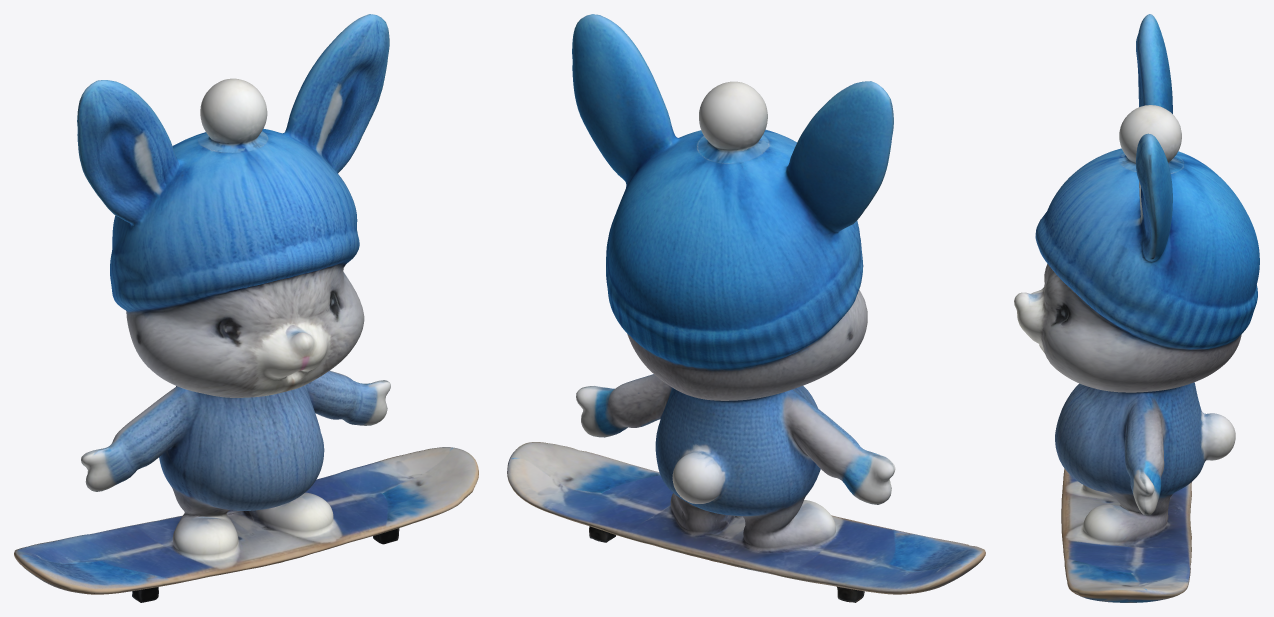
Rendered from This_image_shows_a_cu_1124041517_refine.fbx.
3 views of the same model, side by side, from view 1: azimuth 30°, elevation 25°; view 2: azimuth 150°, elevation 25°; view 3: azimuth 270°, elevation 25° (orthographic). The views are drawn at different scales.
Visible parts, largest first — view 1: Mesh1_Mesh1.052; view 2: Mesh1_Mesh1.052; view 3: Mesh1_Mesh1.052.
Boxes of the visible parts, x1,y1,x2,y2 form: Mesh1_Mesh1.052: (14,14,478,602); Mesh1_Mesh1.052: (507,14,985,602); Mesh1_Mesh1.052: (1014,14,1259,602).
Size of the model in its own units: 187 by 200 by 96.68.
Materials: 1 (1 with a texture image).
